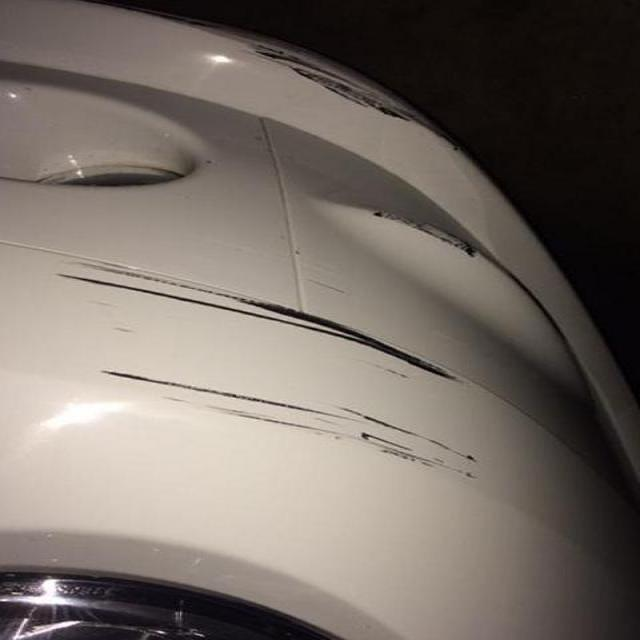scratch: (2, 228, 506, 494), (230, 22, 466, 156)
